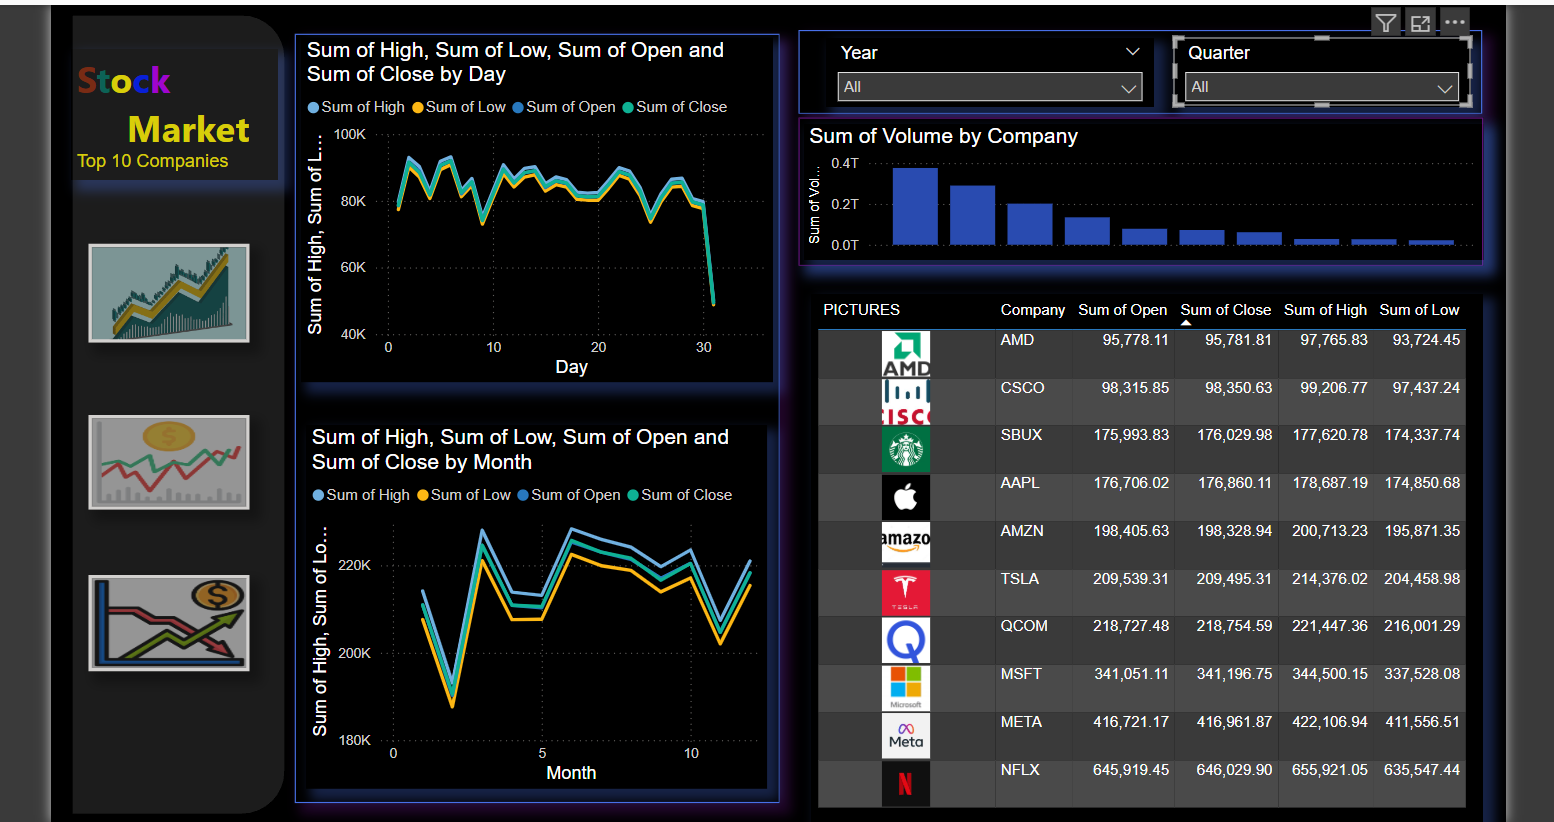

What the dashboard file says about the page in this screenshot:
{"tool":"powerbi","page":{"name":"Summary","canvas":[1280,720],"ordinal":0},"visuals":[{"type":"shape","box":[9.6,0,204.5,720.4],"z":0},{"type":"textbox","box":[17.6,38.5,182.5,115.5],"z":1000},{"type":"shape","box":[214,25.6,426.7,676.7],"z":2000},{"type":"shape","box":[658,21.7,601.4,73.9],"z":3000},{"type":"lineChart","fields":{"Y":["Sum(Stocks_Data.High)","Sum(Stocks_Data.Low)","Sum(Stocks_Data.Open)","Sum(Stocks_Data.Close)"],"Category":["Stocks_Data.Month"]},"box":[224.4,369.8,405.8,319.8],"z":4000},{"type":"lineChart","fields":{"Y":["Sum(Stocks_Data.High)","Sum(Stocks_Data.Low)","Sum(Stocks_Data.Open)","Sum(Stocks_Data.Close)"],"Category":["Stocks_Data.Day"]},"box":[219.8,29.1,415.1,303.5],"z":5000},{"type":"slicer","fields":{"Values":["Stocks_Data.Year"]},"box":[682.1,28.9,288.8,60.5],"z":6000},{"type":"slicer","fields":{"Values":["Stocks_Data.Quarter"]},"box":[987.4,28.9,261.3,60.5],"z":7000},{"type":"tableEx","fields":{"Values":["Stocks_Data.PICTURES","Stocks_Data.Company","Sum(Stocks_Data.Open)","Sum(Stocks_Data.Close)","Sum(Stocks_Data.High)","Sum(Stocks_Data.Low)"]},"box":[668.3,253.9,591.4,466.6],"z":8000},{"type":"shape","box":[657.3,99,602.3,130.6],"z":9000},{"type":"columnChart","fields":{"Category":["Stocks_Data.Company"],"Y":["Sum(Stocks_Data.Volume)"]},"box":[661.5,104.5,598.2,119.6],"z":10000},{"type":"actionButton","box":[33.3,209.5,141.7,86.9],"z":11000},{"type":"actionButton","box":[33.3,360.7,141.7,83.3],"z":12000},{"type":"actionButton","box":[33,501.4,141.8,84.7],"z":13000}]}

Visuals, with their boxes on the page's 1280x720 design canvas (x1, y1, x2, y2). These are canvas units, not pixel positions in the 1554x822 screenshot, which may show the page scaled, cropped or inside an application window:
shape: [10, 0, 214, 720]
textbox: [18, 38, 200, 154]
shape: [214, 26, 641, 702]
shape: [658, 22, 1259, 96]
lineChart - Sum(Stocks_Data.High) x Sum(Stocks_Data.Low): [224, 370, 630, 690]
lineChart - Sum(Stocks_Data.High) x Sum(Stocks_Data.Low): [220, 29, 635, 333]
slicer - Stocks_Data.Year: [682, 29, 971, 89]
slicer - Stocks_Data.Quarter: [987, 29, 1249, 89]
tableEx - Stocks_Data.PICTURES x Stocks_Data.Company: [668, 254, 1260, 720]
shape: [657, 99, 1260, 230]
columnChart - Stocks_Data.Company x Sum(Stocks_Data.Volume): [662, 104, 1260, 224]
actionButton: [33, 210, 175, 296]
actionButton: [33, 361, 175, 444]
actionButton: [33, 501, 175, 586]
